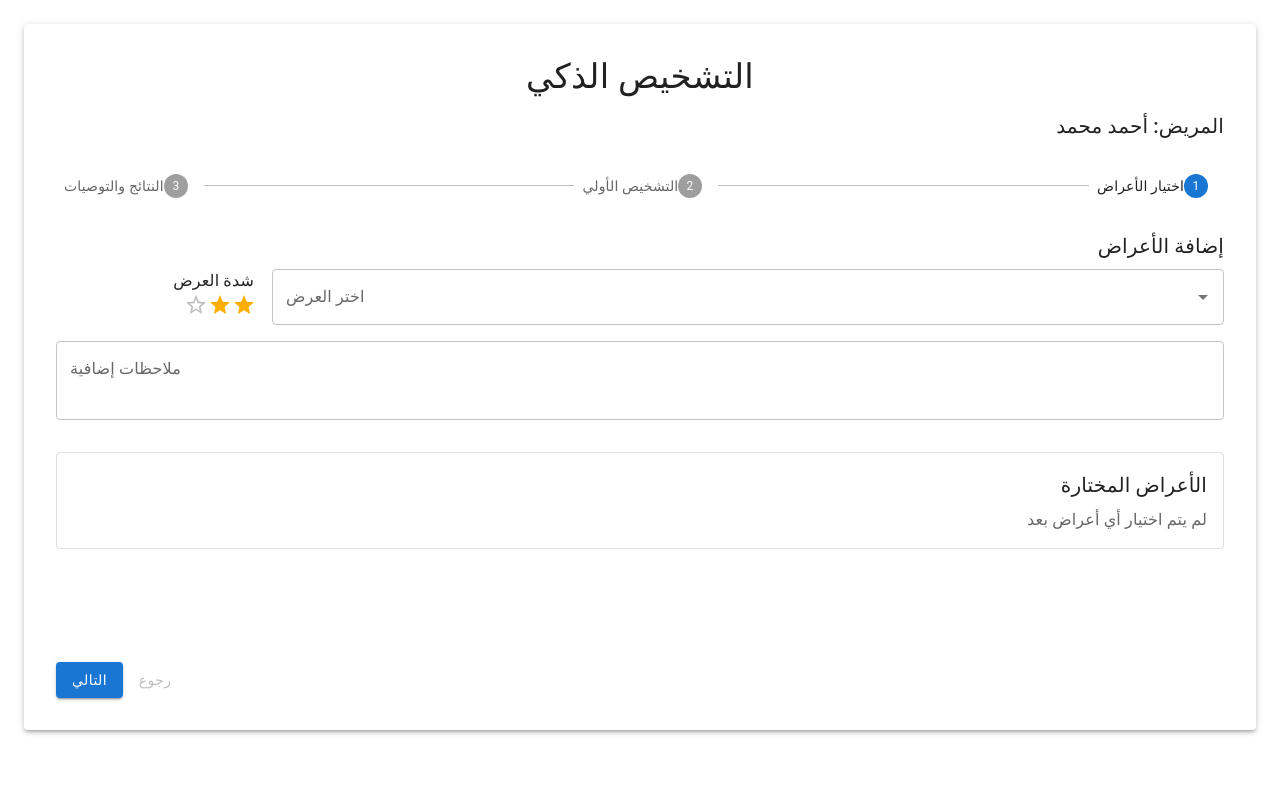
Test case: DiagnosisSession Component › shows error when trying to proceed without symptoms
Click the button "التالي": (90, 680) [56,662,123,698]
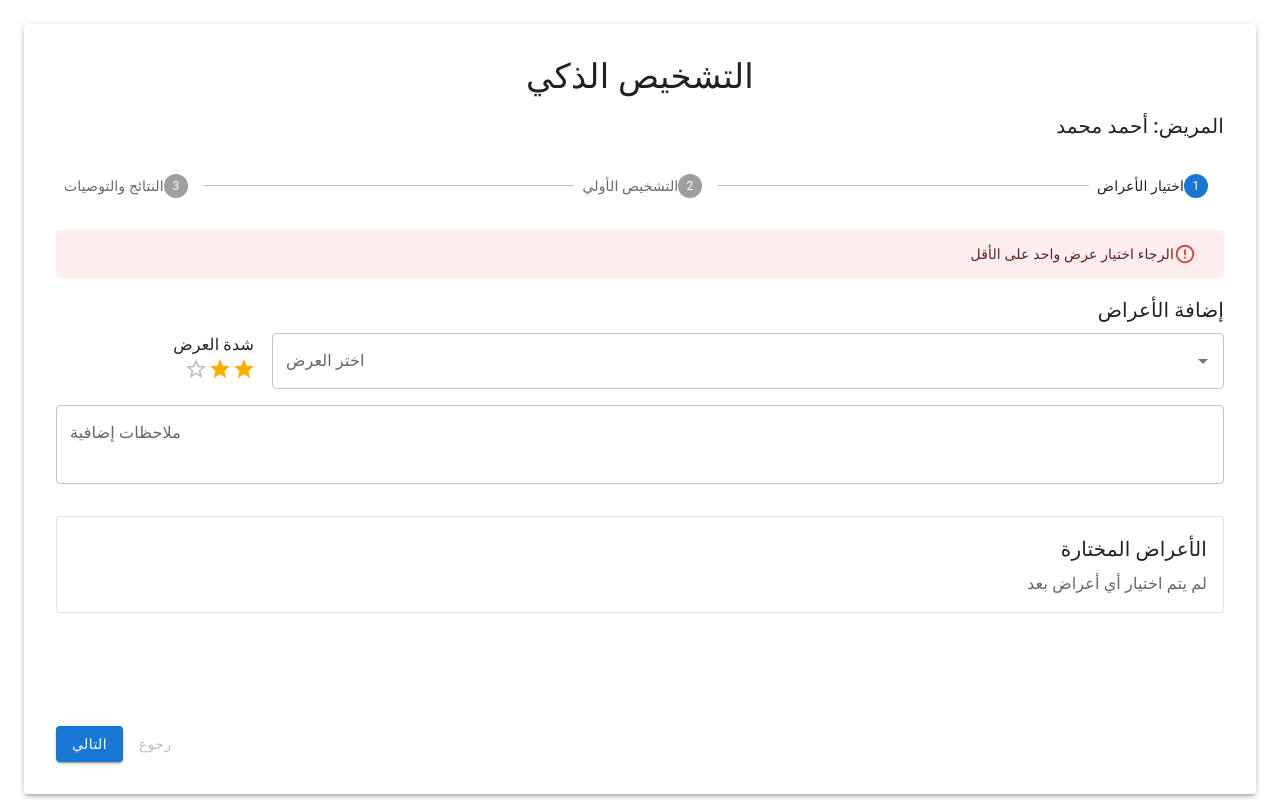
expect the text "الرجاء اختيار عرض واحد على الأقل" is shown: met, box [970,246,1174,262]
